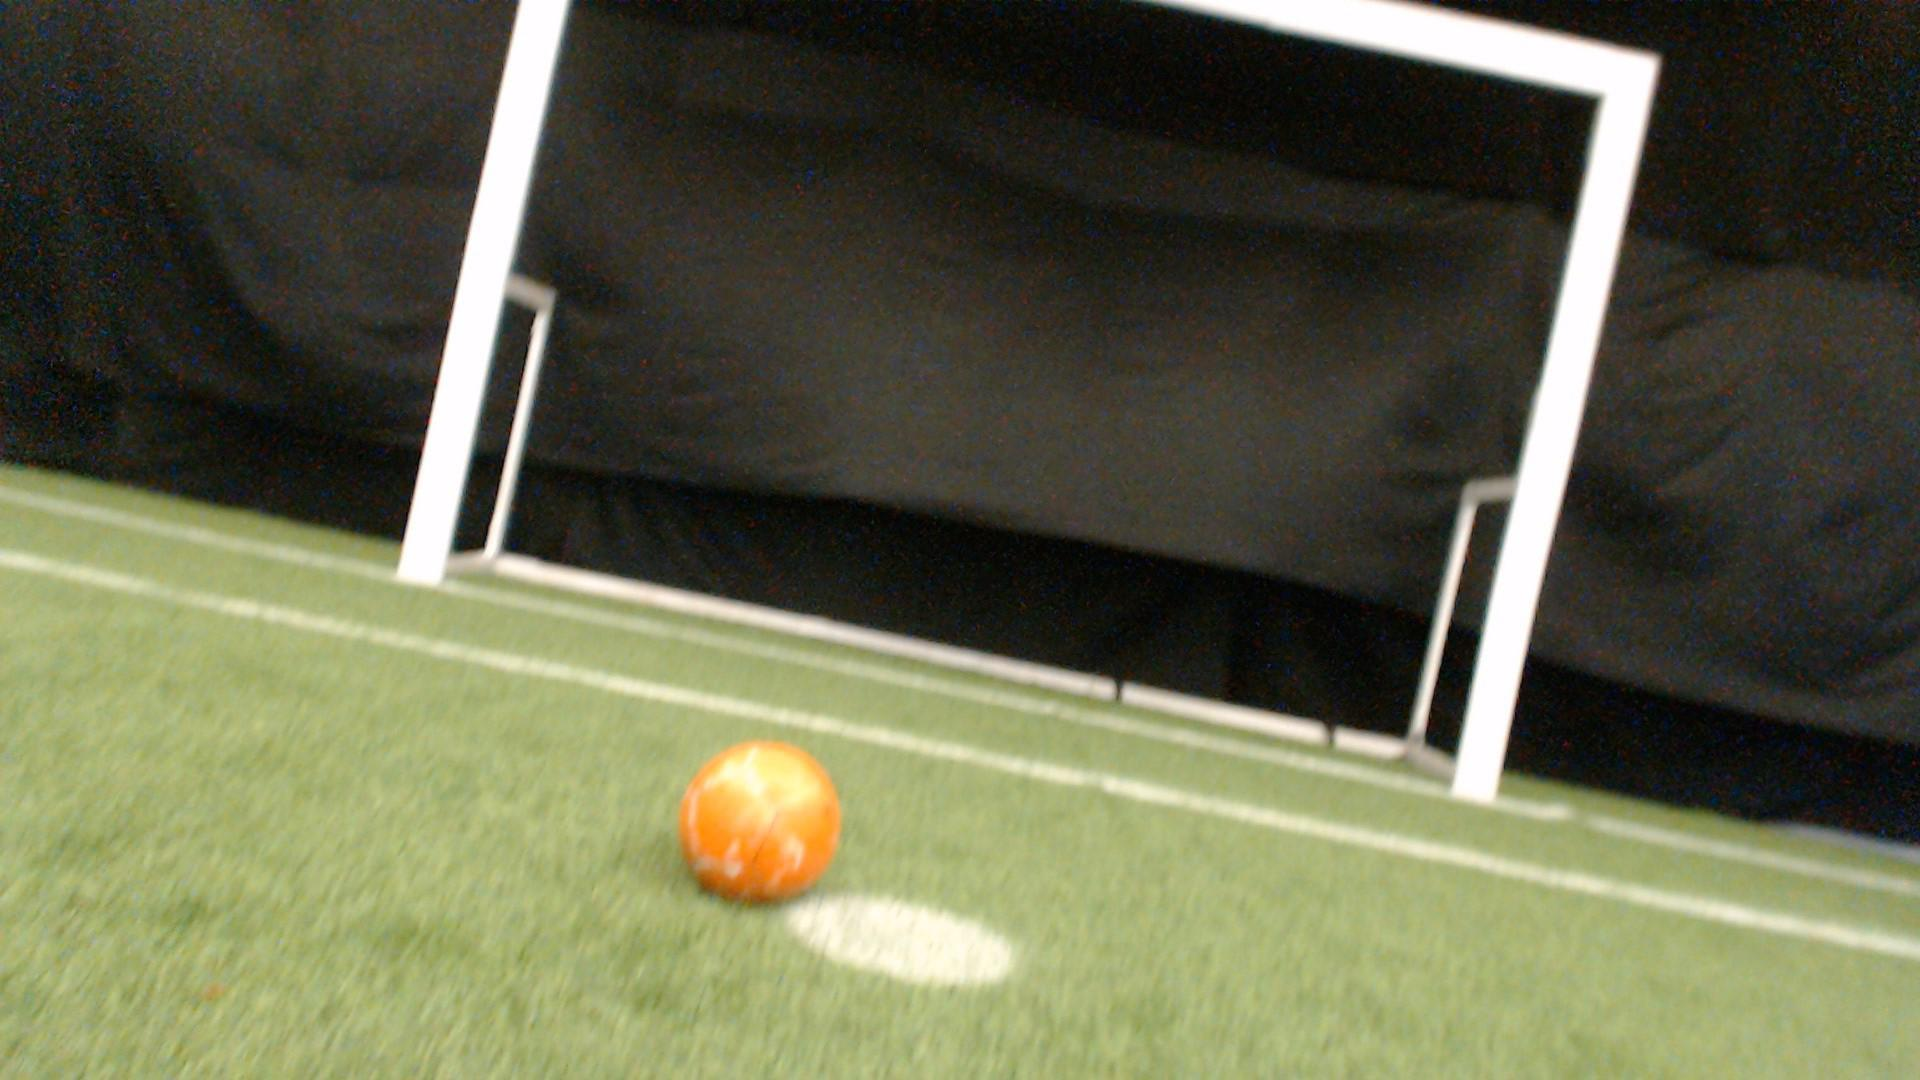bola: (665, 729, 852, 919)
